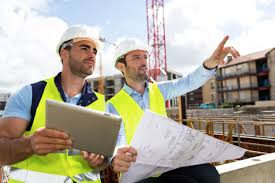casco: (55, 24, 101, 55), (110, 36, 151, 63)
